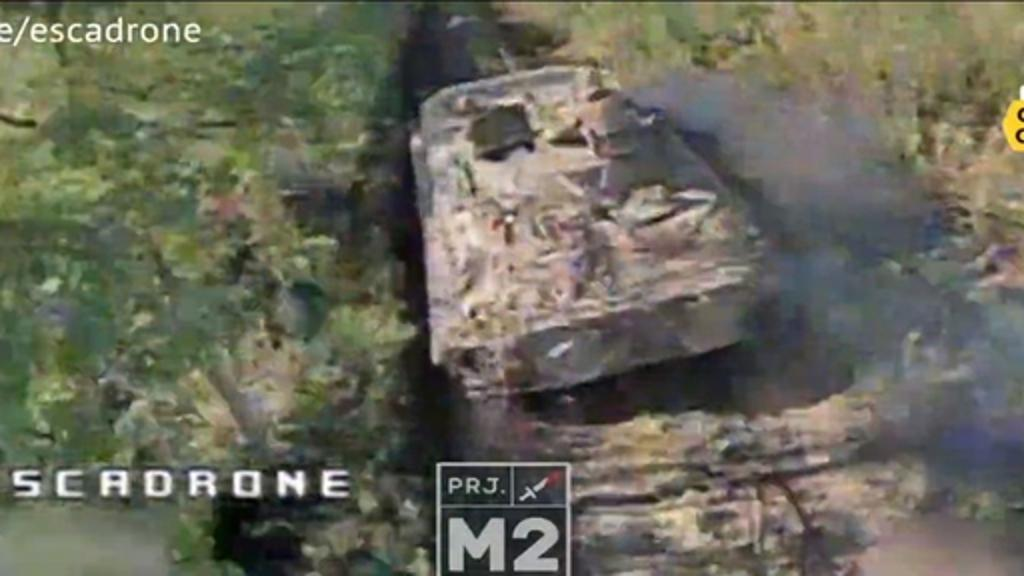APC-IFV: (384, 54, 788, 396)
